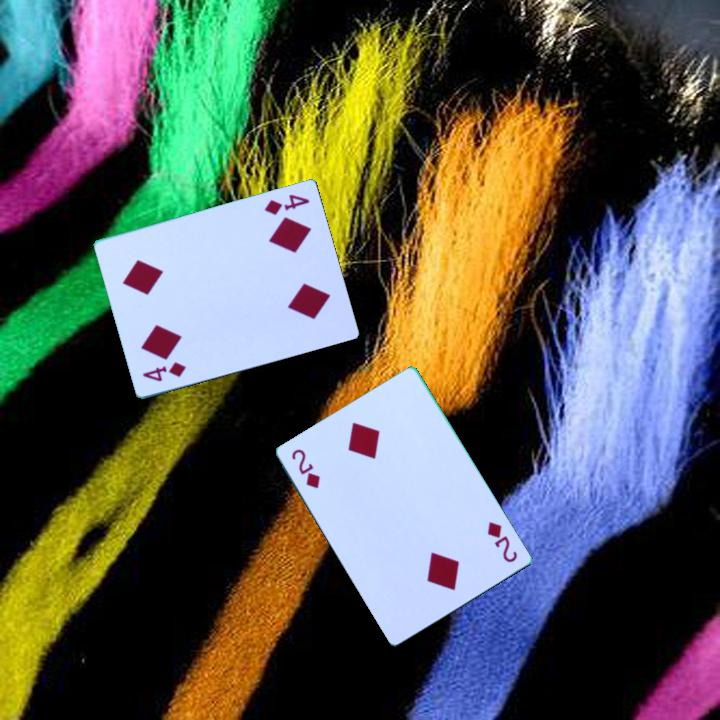2d: (484, 518, 521, 566), (288, 445, 324, 492)
4d: (261, 190, 313, 218), (139, 358, 189, 384)
